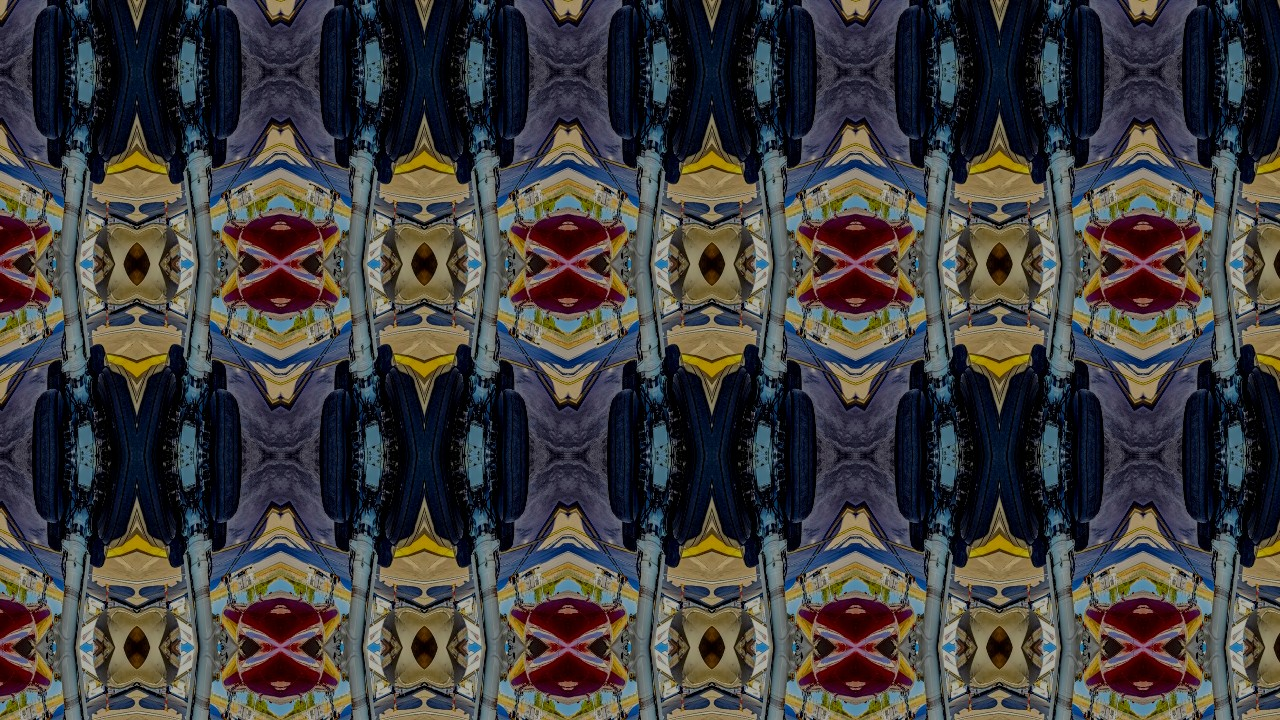chock: (46, 189, 49, 195), (223, 189, 226, 195), (334, 189, 337, 195), (511, 189, 514, 195), (622, 189, 625, 195), (799, 189, 802, 195), (910, 189, 913, 195), (1087, 189, 1090, 195), (1198, 189, 1201, 195), (46, 333, 49, 339), (223, 333, 226, 339), (334, 333, 337, 339), (511, 333, 514, 339), (622, 333, 625, 339), (799, 333, 802, 339), (910, 333, 913, 339), (1087, 333, 1090, 339), (1198, 333, 1201, 339), (46, 573, 49, 579), (223, 573, 226, 579), (334, 573, 337, 579), (511, 573, 514, 579), (622, 573, 625, 579), (799, 573, 802, 579), (910, 573, 913, 579), (1087, 573, 1090, 579), (1198, 573, 1201, 579), (46, 717, 49, 720), (223, 717, 226, 720), (334, 717, 337, 720), (511, 717, 514, 720), (622, 717, 625, 720), (799, 717, 802, 720), (910, 717, 913, 720), (1087, 717, 1090, 720), (1198, 717, 1201, 720)
wheel: (91, 72, 136, 179), (136, 72, 181, 179), (379, 72, 424, 179), (424, 72, 469, 179), (667, 72, 712, 179), (712, 72, 757, 179), (955, 72, 1000, 179), (1000, 72, 1045, 179), (91, 349, 136, 456), (136, 349, 181, 456), (379, 349, 424, 456), (424, 349, 469, 456), (667, 349, 712, 456), (712, 349, 757, 456), (955, 349, 1000, 456), (1000, 349, 1045, 456), (91, 456, 136, 563), (136, 456, 181, 563), (379, 456, 424, 563), (424, 456, 469, 563), (667, 456, 712, 563), (712, 456, 757, 563), (955, 456, 1000, 563), (1000, 456, 1045, 563), (21, 72, 80, 148), (192, 72, 251, 148), (309, 72, 368, 148), (480, 72, 539, 148), (597, 72, 656, 148), (768, 72, 827, 148), (885, 72, 944, 148), (1056, 72, 1115, 148), (1173, 72, 1232, 148), (21, 380, 80, 456), (192, 380, 251, 456), (309, 380, 368, 456), (480, 380, 539, 456), (597, 380, 656, 456), (768, 380, 827, 456), (885, 380, 944, 456), (1056, 380, 1115, 456), (1173, 380, 1232, 456), (21, 456, 80, 532), (192, 456, 251, 532), (309, 456, 368, 532), (480, 456, 539, 532), (597, 456, 656, 532), (768, 456, 827, 532), (885, 456, 944, 532), (1056, 456, 1115, 532), (1173, 456, 1232, 532), (21, 0, 80, 72), (192, 0, 251, 72), (309, 0, 368, 72), (480, 0, 539, 72), (597, 0, 656, 72), (768, 0, 827, 72), (885, 0, 944, 72), (1056, 0, 1115, 72), (1173, 0, 1232, 72), (1243, 72, 1280, 179), (1243, 349, 1280, 456), (1243, 456, 1280, 563), (91, 0, 136, 72), (136, 0, 181, 72), (379, 0, 424, 72), (424, 0, 469, 72), (667, 0, 712, 72), (712, 0, 757, 72), (955, 0, 1000, 72), (1000, 0, 1045, 72), (1243, 0, 1280, 72), (42, 104, 70, 174), (202, 104, 230, 174), (330, 104, 358, 174), (490, 104, 518, 174), (618, 104, 646, 174), (778, 104, 806, 174), (906, 104, 934, 174), (1066, 104, 1094, 174), (1194, 104, 1222, 174), (42, 354, 70, 424), (202, 354, 230, 424), (330, 354, 358, 424), (490, 354, 518, 424), (618, 354, 646, 424), (778, 354, 806, 424), (906, 354, 934, 424), (1066, 354, 1094, 424), (1194, 354, 1222, 424), (42, 488, 70, 558), (202, 488, 230, 558), (330, 488, 358, 558), (490, 488, 518, 558), (618, 488, 646, 558), (778, 488, 806, 558), (906, 488, 934, 558), (1066, 488, 1094, 558), (1194, 488, 1222, 558), (85, 125, 111, 190), (161, 125, 187, 190), (373, 125, 399, 190), (449, 125, 475, 190), (661, 125, 687, 190), (737, 125, 763, 190), (949, 125, 975, 190), (1025, 125, 1051, 190), (1237, 125, 1263, 190), (85, 338, 111, 403), (161, 338, 187, 403), (373, 338, 399, 403), (449, 338, 475, 403), (661, 338, 687, 403), (737, 338, 763, 403), (949, 338, 975, 403), (1025, 338, 1051, 403), (1237, 338, 1263, 403), (85, 509, 111, 574), (161, 509, 187, 574), (373, 509, 399, 574), (449, 509, 475, 574), (661, 509, 687, 574), (737, 509, 763, 574), (949, 509, 975, 574), (1025, 509, 1051, 574), (1237, 509, 1263, 574), (42, 0, 70, 40), (202, 0, 230, 40), (330, 0, 358, 40), (490, 0, 518, 40), (618, 0, 646, 40), (778, 0, 806, 40), (906, 0, 934, 40), (1066, 0, 1094, 40), (1194, 0, 1222, 40), (85, 0, 111, 19), (161, 0, 187, 19), (373, 0, 399, 19), (449, 0, 475, 19), (661, 0, 687, 19), (737, 0, 763, 19), (949, 0, 975, 19), (1025, 0, 1051, 19), (1237, 0, 1263, 19), (41, 189, 45, 200), (227, 189, 231, 200), (329, 189, 333, 200), (515, 189, 519, 200), (617, 189, 621, 200), (803, 189, 807, 200), (905, 189, 909, 200), (1091, 189, 1095, 200), (1193, 189, 1197, 200), (41, 328, 45, 339), (227, 328, 231, 339), (329, 328, 333, 339), (515, 328, 519, 339), (617, 328, 621, 339), (803, 328, 807, 339), (905, 328, 909, 339), (1091, 328, 1095, 339), (1193, 328, 1197, 339), (41, 573, 45, 584), (227, 573, 231, 584), (329, 573, 333, 584), (515, 573, 519, 584), (617, 573, 621, 584), (803, 573, 807, 584), (905, 573, 909, 584), (1091, 573, 1095, 584), (1193, 573, 1197, 584), (45, 192, 49, 202), (223, 192, 227, 202), (333, 192, 337, 202), (511, 192, 515, 202), (621, 192, 625, 202), (799, 192, 803, 202), (909, 192, 913, 202), (1087, 192, 1091, 202), (1197, 192, 1201, 202), (45, 326, 49, 336), (223, 326, 227, 336), (333, 326, 337, 336), (511, 326, 515, 336), (621, 326, 625, 336), (799, 326, 803, 336), (909, 326, 913, 336), (1087, 326, 1091, 336), (1197, 326, 1201, 336), (45, 576, 49, 586), (223, 576, 227, 586), (333, 576, 337, 586), (511, 576, 515, 586), (621, 576, 625, 586), (799, 576, 803, 586), (909, 576, 913, 586), (1087, 576, 1091, 586), (1197, 576, 1201, 586), (45, 710, 49, 720), (223, 710, 227, 720), (333, 710, 337, 720), (511, 710, 515, 720), (621, 710, 625, 720), (799, 710, 803, 720), (909, 710, 913, 720), (1087, 710, 1091, 720), (1197, 710, 1201, 720), (41, 712, 45, 720), (227, 712, 231, 720), (329, 712, 333, 720), (515, 712, 519, 720), (617, 712, 621, 720), (803, 712, 807, 720), (905, 712, 909, 720), (1091, 712, 1095, 720), (1193, 712, 1197, 720)
